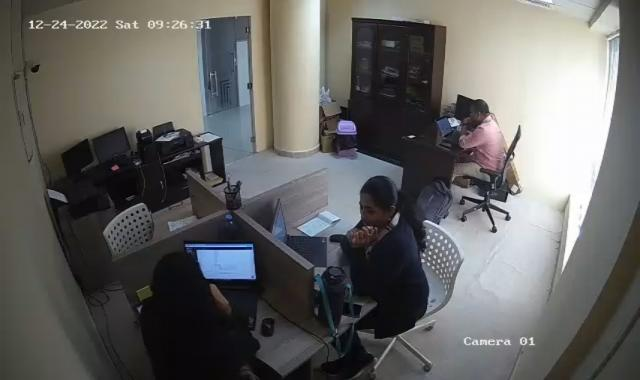no_hairnet: (151, 250, 206, 312), (357, 174, 399, 222), (467, 98, 492, 121)
